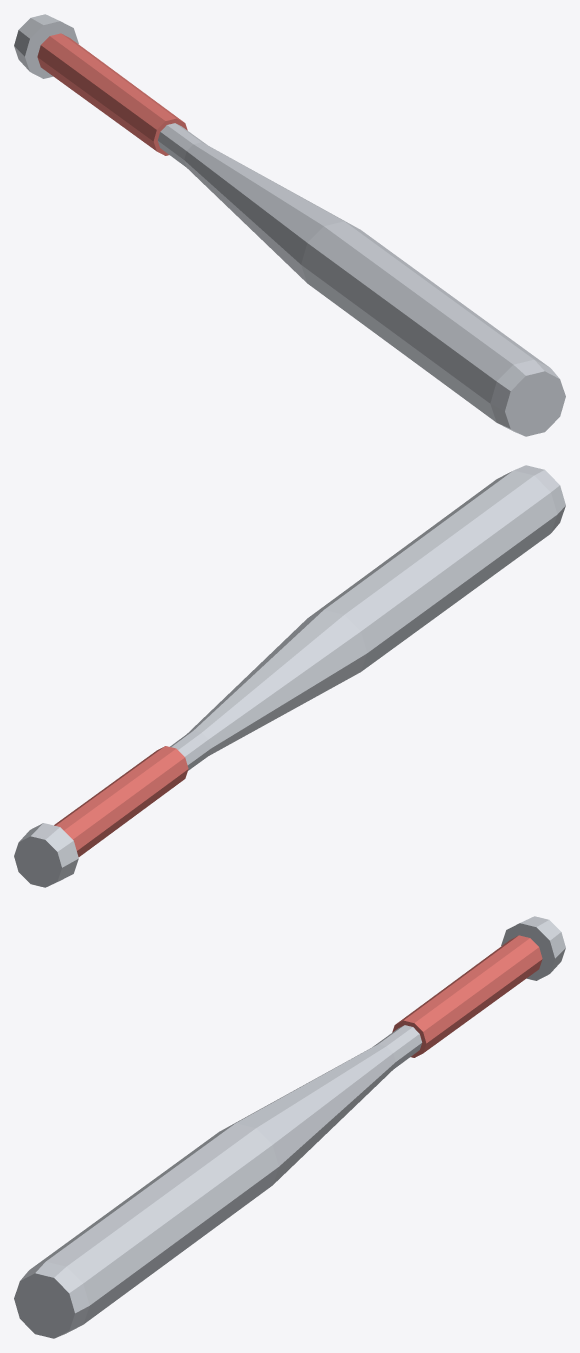
Rendered from bat.glb.
3 views of the same model, one above another, from view 1: azimuth 30°, elevation 25°; view 2: azimuth 150°, elevation 25°; view 3: azimuth 330°, elevation 25° (orthographic).
Visible parts, largest first — view 1: baseball-bat-metal; view 2: baseball-bat-metal; view 3: baseball-bat-metal.
Part boxes in pixels (x1=…): baseball-bat-metal: x1=14, y1=14, x2=565, y2=436; baseball-bat-metal: x1=14, y1=465, x2=565, y2=887; baseball-bat-metal: x1=14, y1=916, x2=565, y2=1338.
Bounding box in the file's own units: 0.067 × 0.0637 × 0.86.
